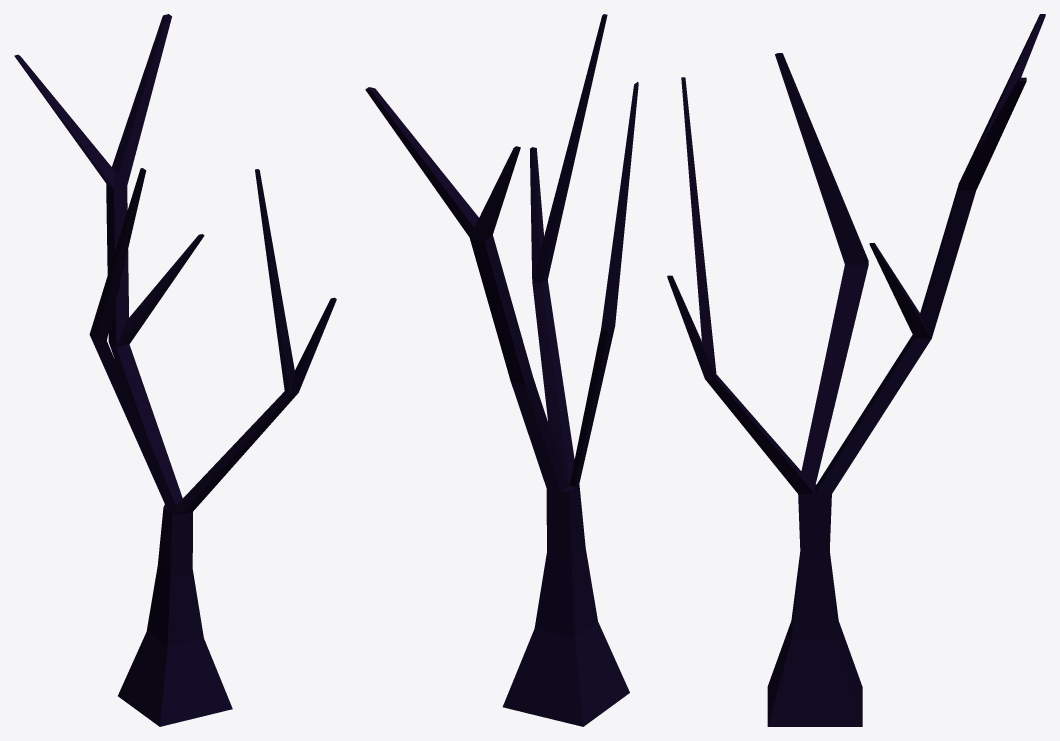
The model's file is agac_deneme.fbx.
3 views of the same model, side by side, from view 1: azimuth 30°, elevation 25°; view 2: azimuth 150°, elevation 25°; view 3: azimuth 270°, elevation 25° (orthographic). The views are drawn at different scales.
Visible parts, largest first — view 1: Cube; view 2: Cube; view 3: Cube.
Boxes of the visible parts, x1,y1,x2,y2 form: Cube: (14, 14, 336, 726); Cube: (365, 14, 638, 726); Cube: (667, 14, 1045, 726).
Bounding box in the file's own units: 433 × 1566 × 796.
